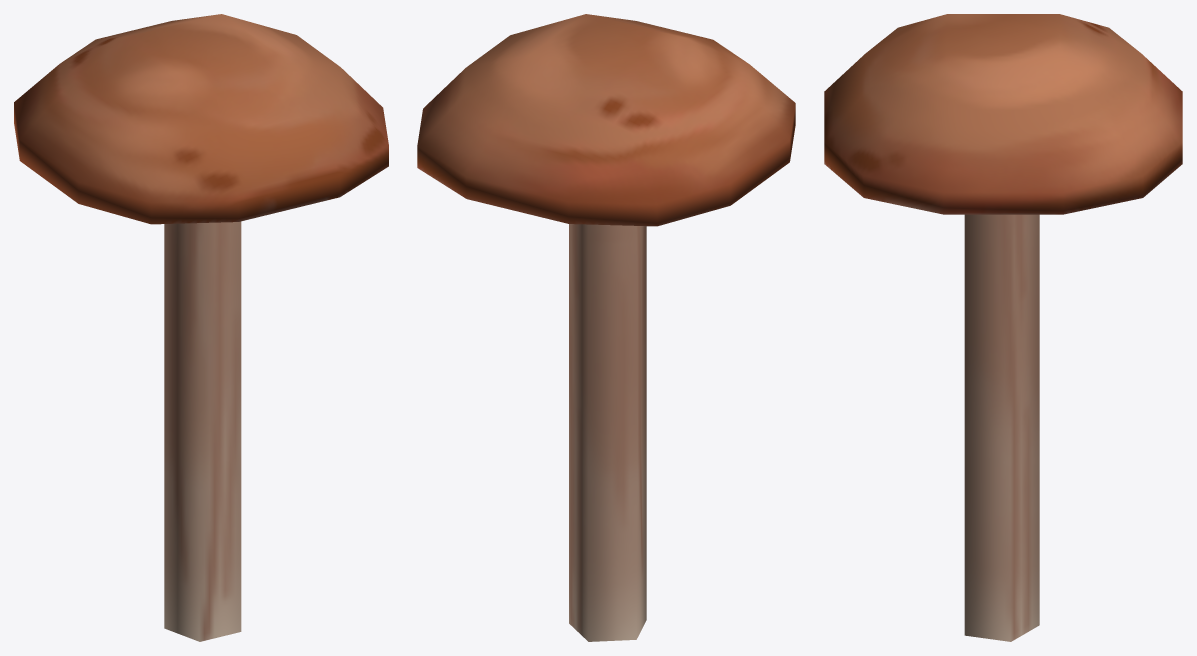
File: hongo3.fbx
3 renders of one model, left to right at view 1: azimuth 30°, elevation 25°; view 2: azimuth 150°, elevation 25°; view 3: azimuth 270°, elevation 25°, orthographic.
Visible parts, largest first — view 1: HONGO3; view 2: HONGO3; view 3: HONGO3.
Boxes of the visible parts, box(x1,y1,x2,y2) form: HONGO3: box(14, 14, 388, 641); HONGO3: box(417, 14, 795, 641); HONGO3: box(824, 14, 1182, 641).
Size of the model in its own units: 156 by 283 by 156.
